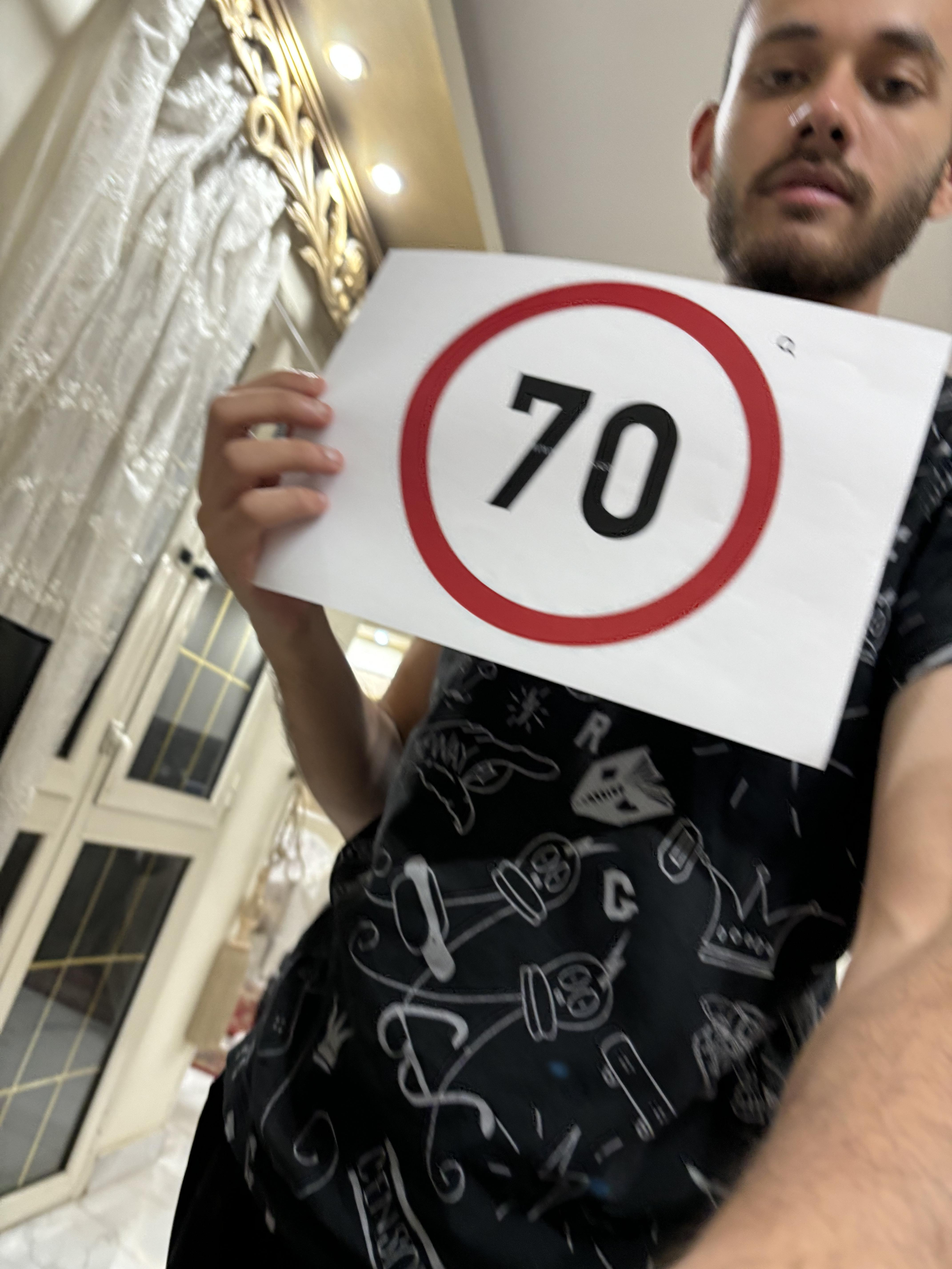70-Speed: (397, 272, 789, 653)
